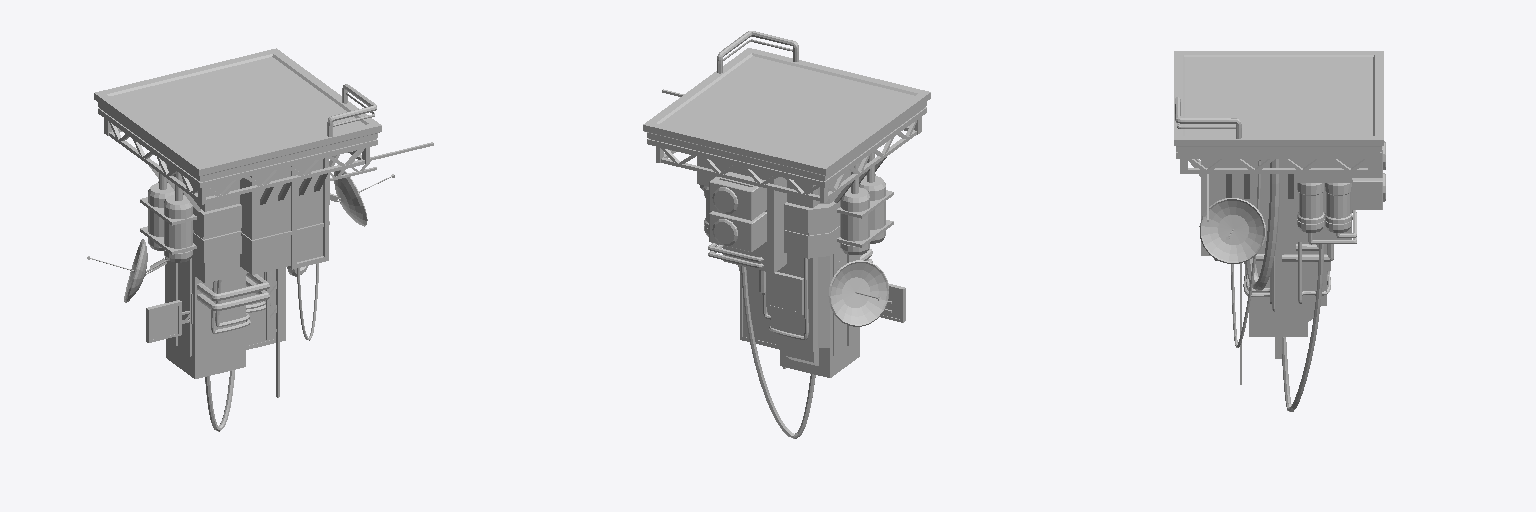
Rendered from Platform_2x2_Cube_001.obj.
3 renders of one model, left to right at view 1: azimuth 30°, elevation 25°; view 2: azimuth 150°, elevation 25°; view 3: azimuth 270°, elevation 25°, orthographic.
Parts seen in each view (by area): view 1: Platform_2x2_Cube.001; view 2: Platform_2x2_Cube.001; view 3: Platform_2x2_Cube.001.
Boxes of the visible parts, x1=… form: Platform_2x2_Cube.001: x1=87, y1=48, x2=433, y2=431; Platform_2x2_Cube.001: x1=643, y1=31, x2=930, y2=438; Platform_2x2_Cube.001: x1=1174, y1=51, x2=1385, y2=411.
Size of the model in its own units: 3.31 by 3.83 by 2.16.